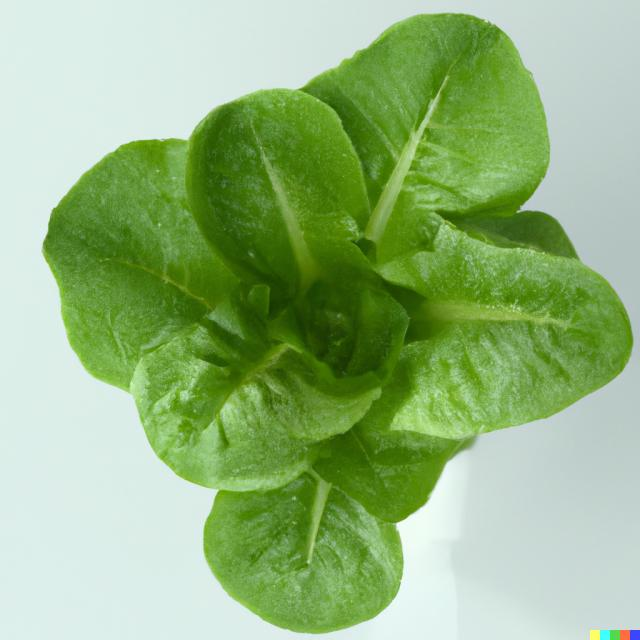FN: (35, 1, 640, 640)
